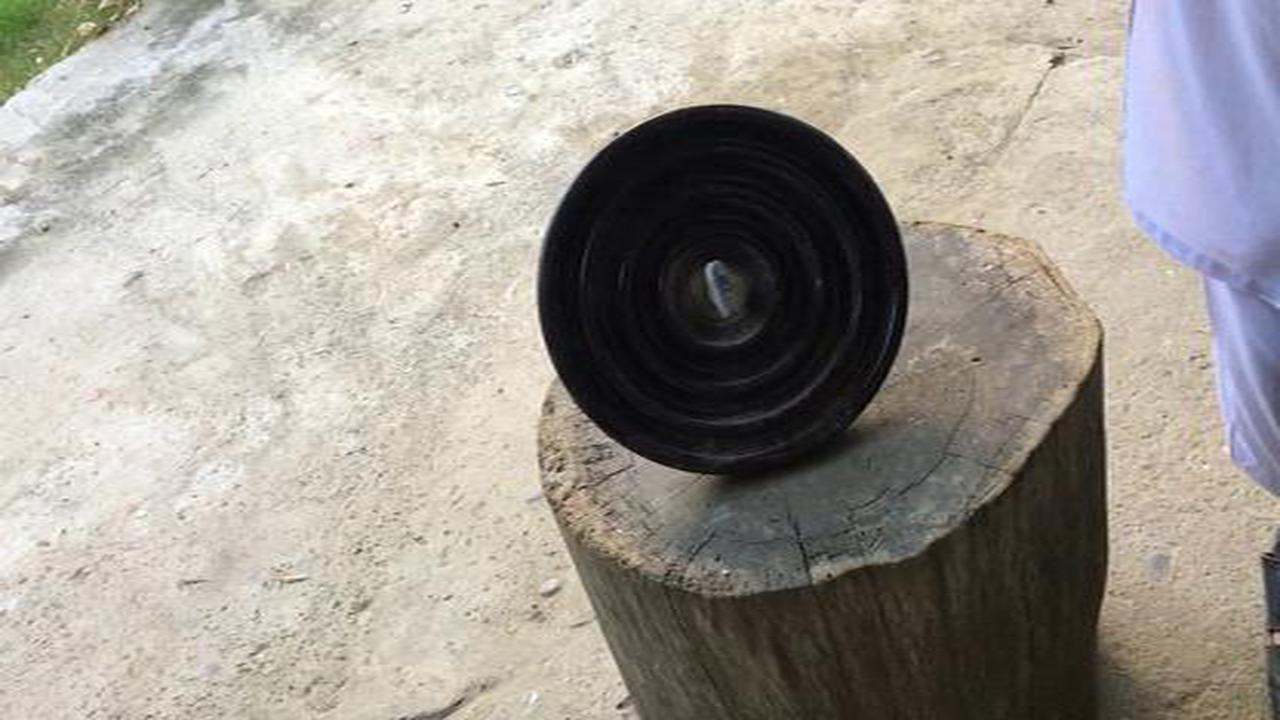insulator_disc: (527, 99, 917, 487)
